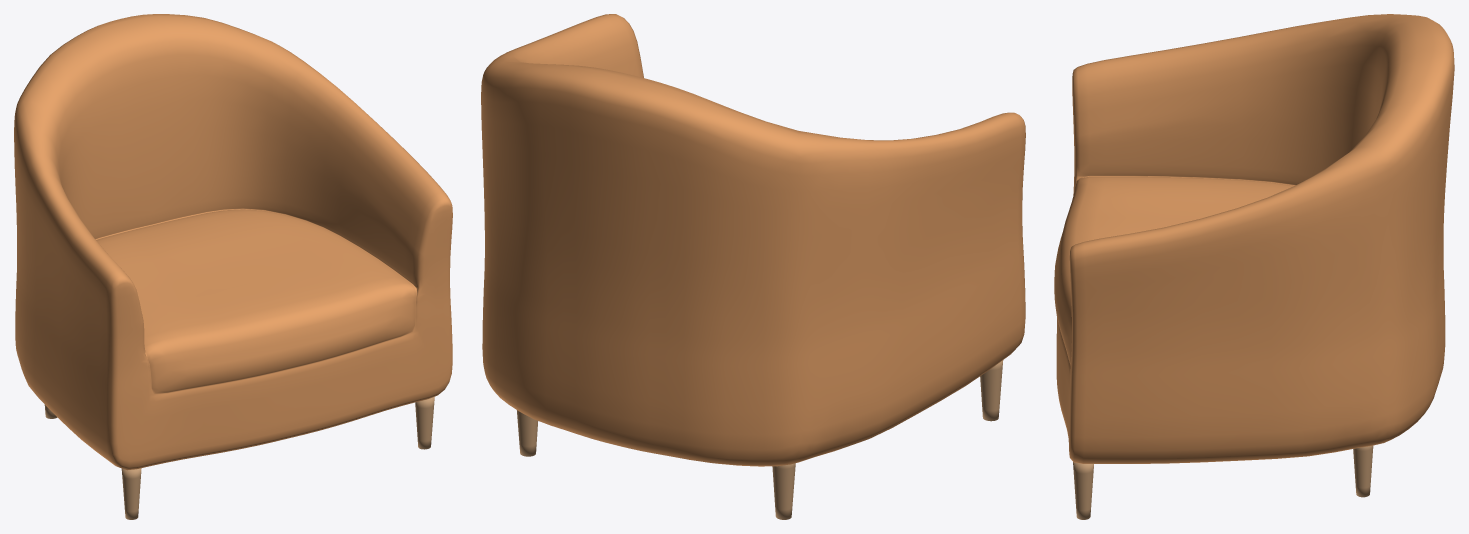
File: sofa1#29.fbx
3 views of the same model, side by side, from view 1: azimuth 30°, elevation 25°; view 2: azimuth 150°, elevation 25°; view 3: azimuth 270°, elevation 25° (orthographic). The views are drawn at different scales.
Parts seen in each view (by area): view 1: Loft02, Object01; view 2: Loft02, Object01; view 3: Loft02, Object01.
Boxes of the visible parts, left/top/right/bottom form: Loft02: left=14, top=14, right=452, bottom=470; Object01: left=44, top=397, right=434, bottom=519; Loft02: left=481, top=14, right=1025, bottom=466; Object01: left=517, top=360, right=1003, bottom=519; Loft02: left=1054, top=14, right=1454, bottom=463; Object01: left=1073, top=445, right=1373, bottom=519.
Bounding box in the file's own units: 1.99 × 1.92 × 1.78.
